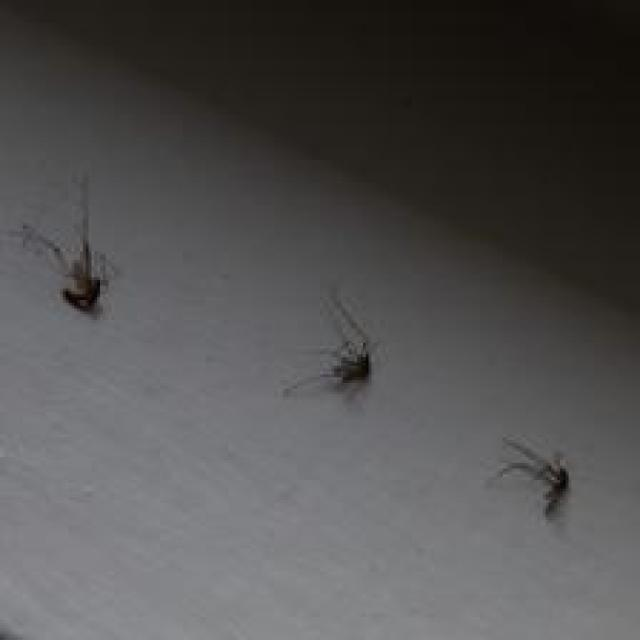Culex: (17, 170, 117, 316)
